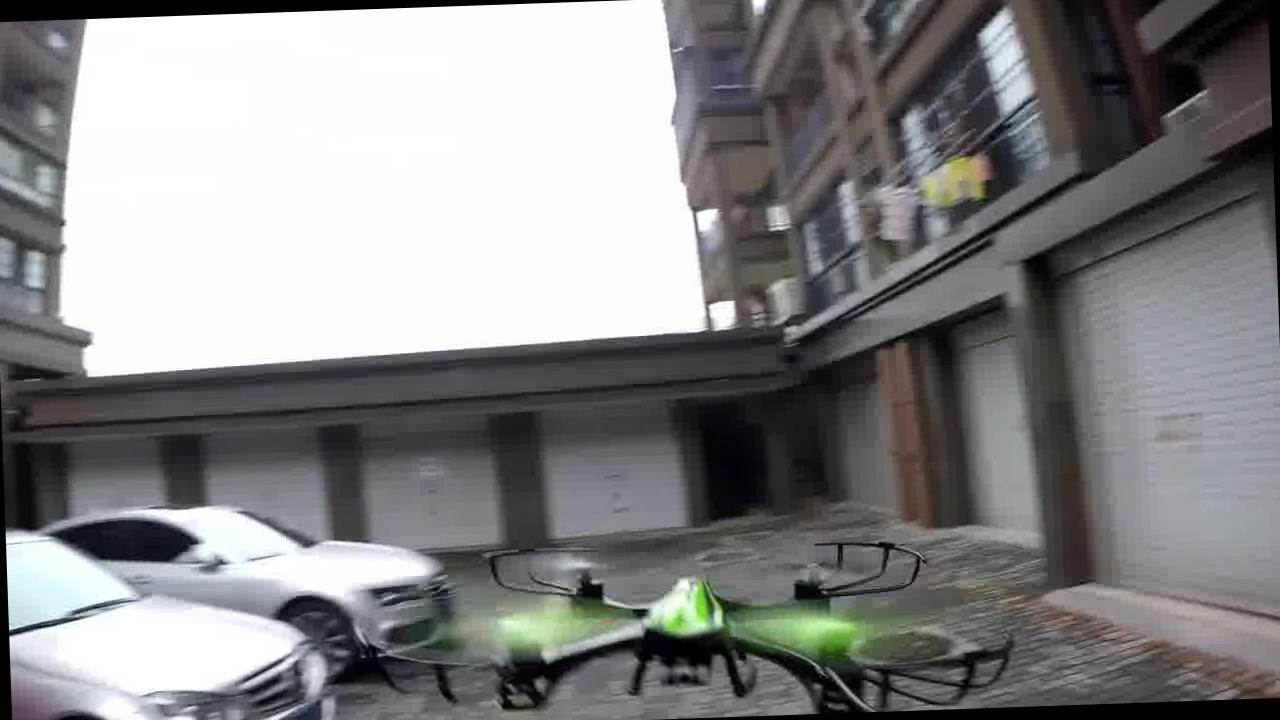drone: (357, 514, 1032, 719)
